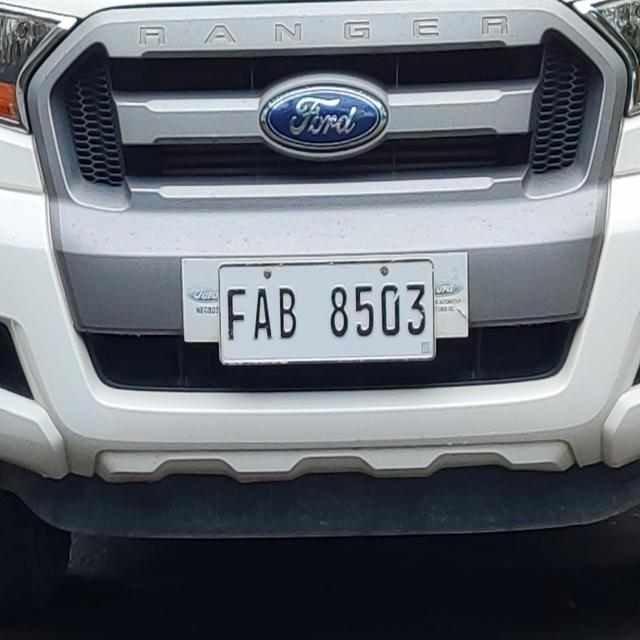plate: (215, 254, 438, 368)
